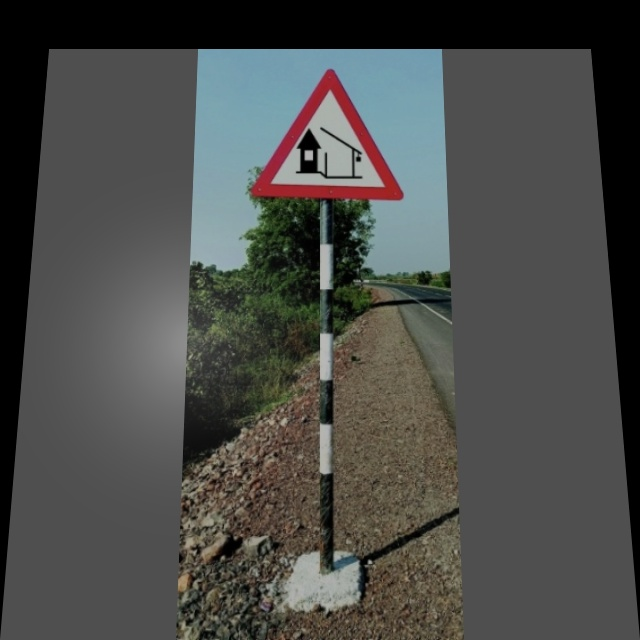Barrier_Ahead: (255, 71, 402, 197)
